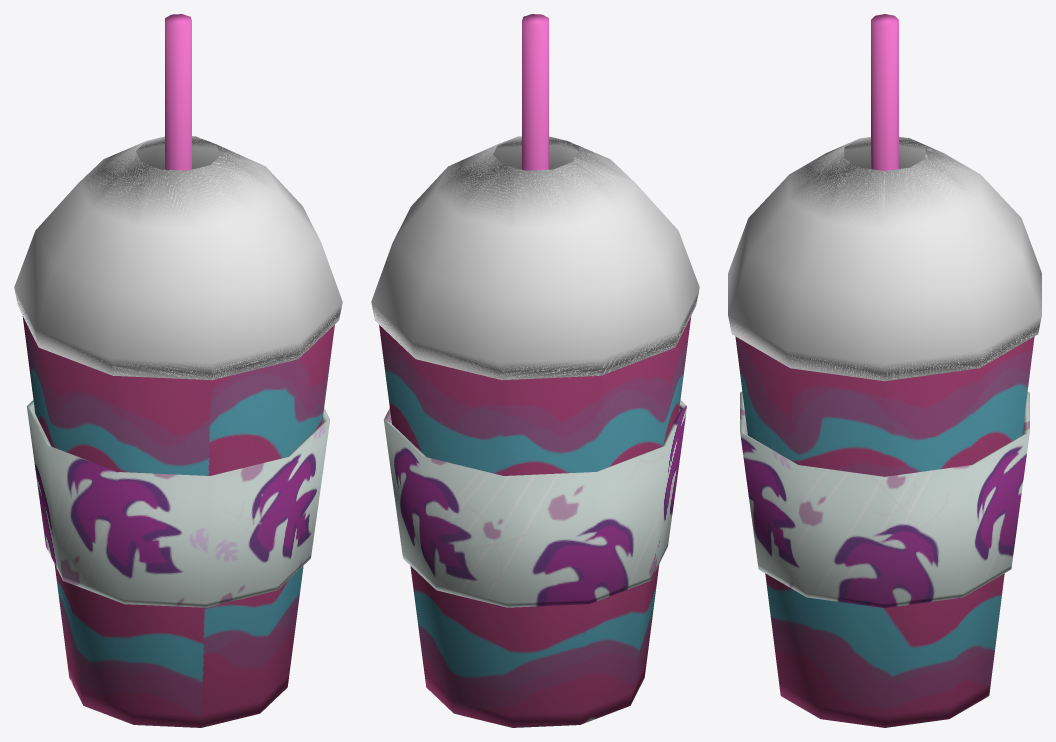
Rendered from New_Pink_Coffee.fbx.
3 renders of one model, left to right at view 1: azimuth 30°, elevation 25°; view 2: azimuth 150°, elevation 25°; view 3: azimuth 270°, elevation 25°, orthographic.
Visible parts, largest first — view 1: Pembe susulu bardak lid, Cupofcoffee.001, Pinksleeve, Pipet; view 2: Pembe susulu bardak lid, Cupofcoffee.001, Pinksleeve, Pipet; view 3: Pembe susulu bardak lid, Cupofcoffee.001, Pinksleeve, Pipet.
Boxes of the visible parts, x1,y1,x2,y2 form: Pembe susulu bardak lid: (14,136,342,380); Cupofcoffee.001: (22,316,334,727); Pinksleeve: (27,400,329,607); Pipet: (165,14,191,170); Pembe susulu bardak lid: (371,136,699,380); Cupofcoffee.001: (379,316,691,727); Pinksleeve: (384,400,686,607); Pipet: (522,14,548,170); Pembe susulu bardak lid: (728,137,1041,381); Cupofcoffee.001: (735,336,1034,727); Pinksleeve: (740,391,1029,608); Pipet: (871,14,898,170).
Bounding box in the file's own units: 0.1199 × 0.2655 × 0.1141.
Materials: 5 (2 with a texture image).
